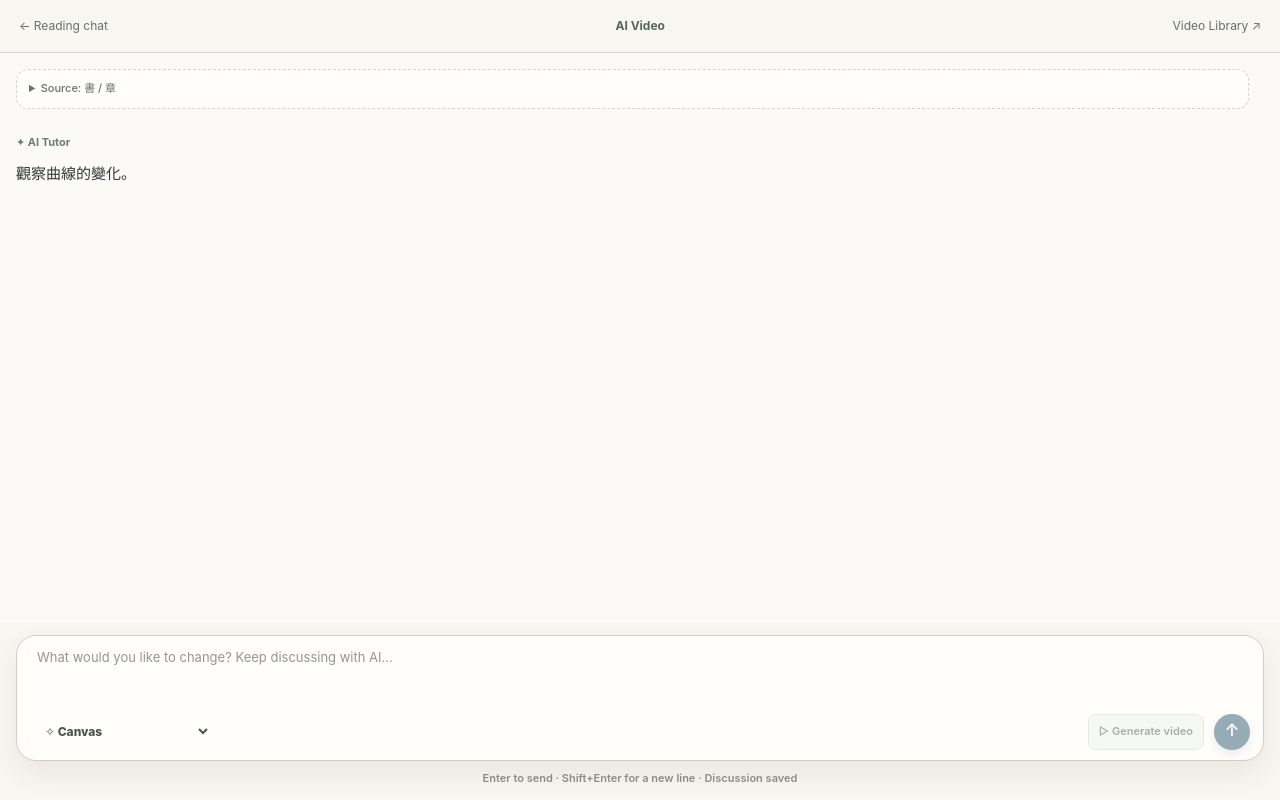
Test: E3: save engine switch and disable generation with selected environment reason
This screenshot has width=1280, height=800.
Select "✧ Manim" in the dropdown named "Animation engine" at [123, 732], box x1=35 y1=718 x2=211 y2=745
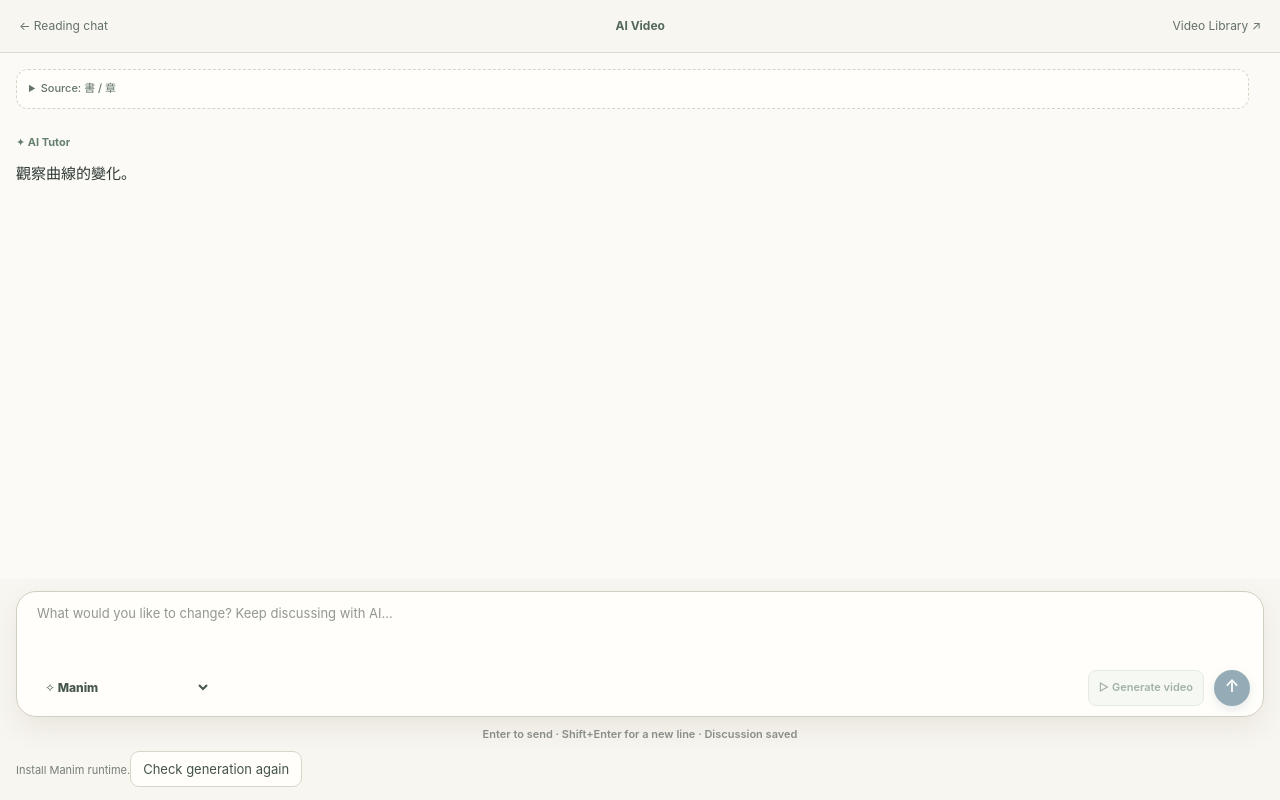
Expected: the button "▷ Generate video" is disabled, x1=1088 y1=670 x2=1204 y2=706
Result: the text "Install Manim runtime." is shown at x1=16 y1=763 x2=130 y2=777
Select "✧ Canvas" in the dropdown named "Animation engine" at [123, 688], box x1=35 y1=674 x2=211 y2=701
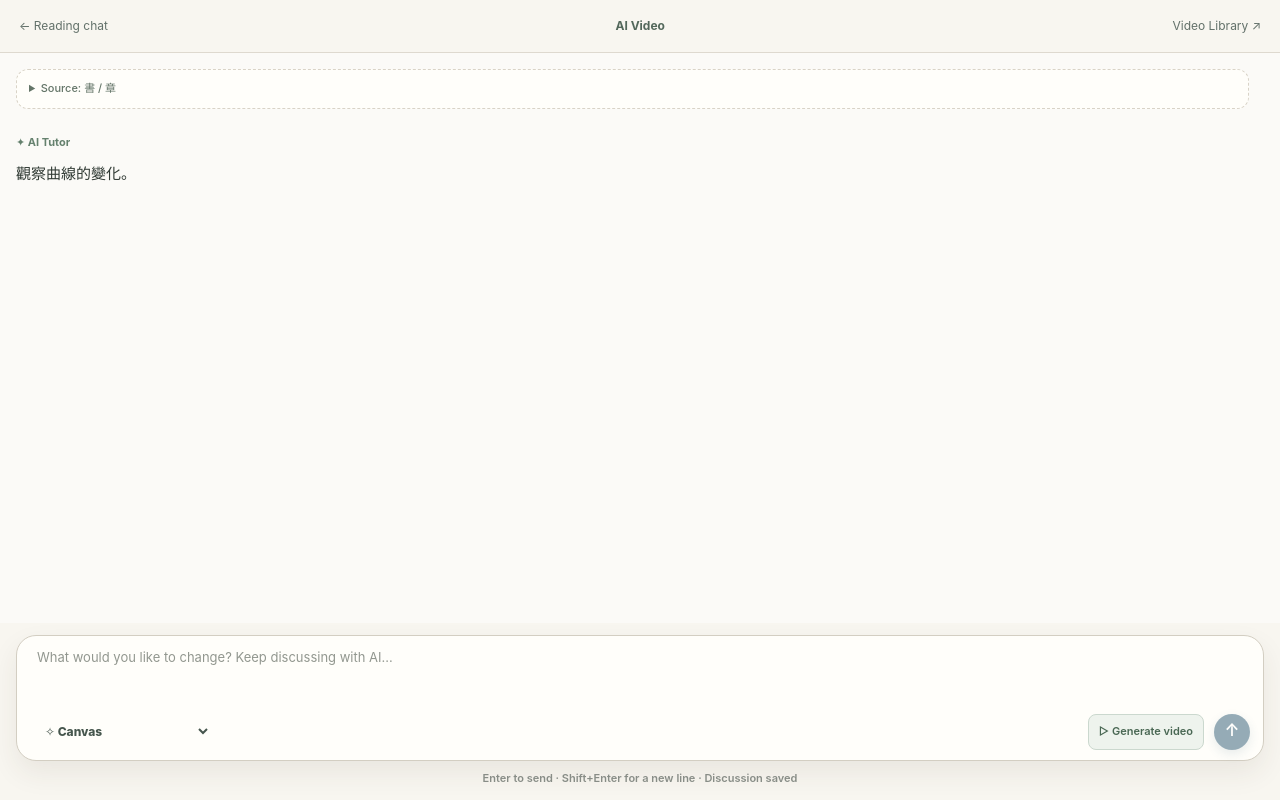
Result: the button "▷ Generate video" is enabled at x1=1088 y1=714 x2=1204 y2=750
